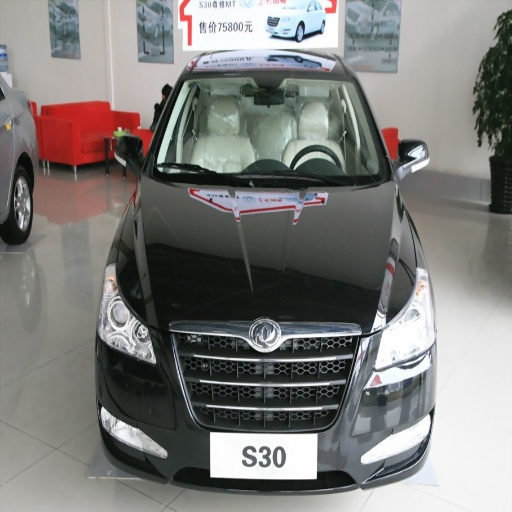front_bumper: (98, 315, 430, 511)
front_right_light: (100, 262, 157, 365)
hood: (126, 174, 411, 334)
trunk: (2, 110, 31, 162)
